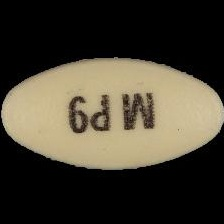55700-318: (0, 0, 224, 224)
